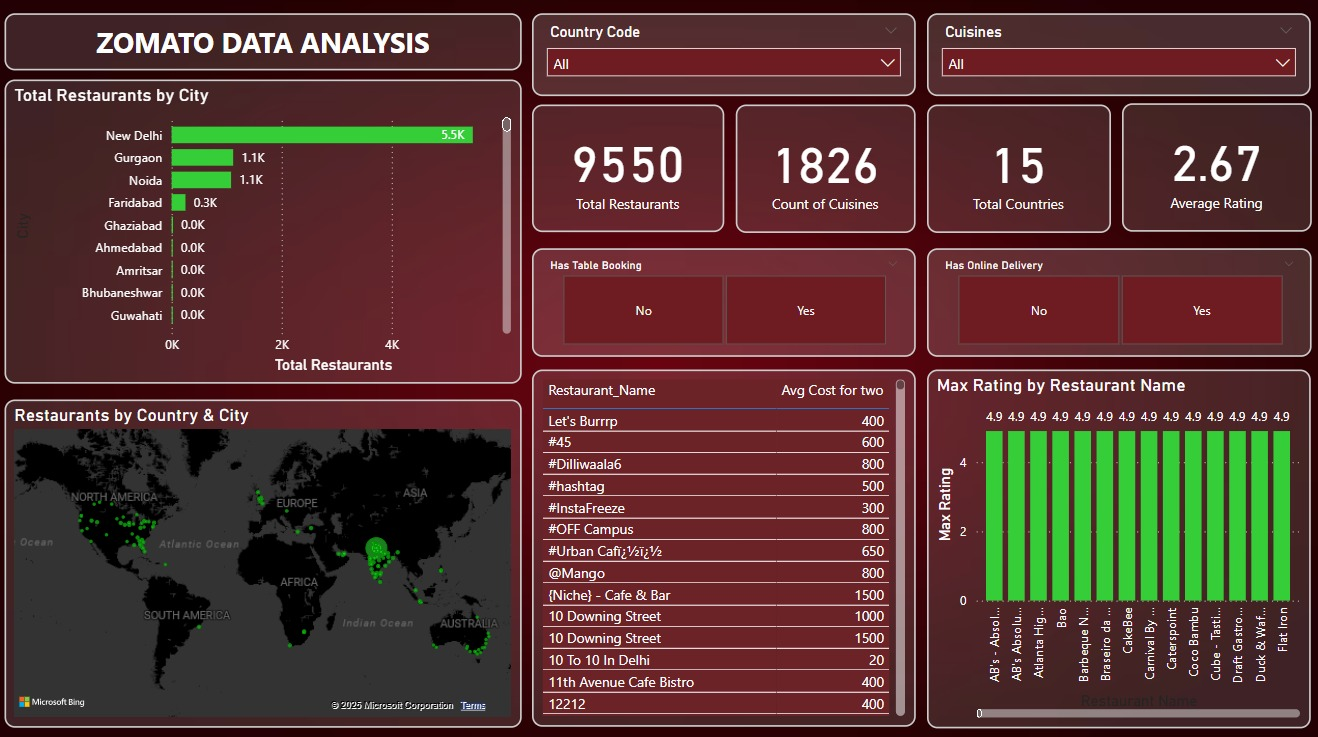

The page's visual inventory and layout, read from the dashboard file:
{"tool":"powerbi","page":{"name":"Page 1","canvas":[1280,720],"ordinal":0},"visuals":[{"type":"textbox","box":[6.9,15.1,499.5,54.9],"z":0},{"type":"map","title":"Restaurants by Country &  City","fields":{"Category":["Zomato.City"],"Size":["CountNonNull(Zomato.Restaurant_ID)"]},"box":[6.9,388.3,499.5,317],"z":1000},{"type":"barChart","fields":{"Category":["Zomato.City"],"Y":["Zomato.Total Restaurants"]},"box":[6.9,79.6,499.5,293.7],"z":2000},{"type":"card","fields":{"Values":["Zomato.Total Restaurants"]},"box":[516.4,103.8,185.8,123.1],"z":3000},{"type":"card","fields":{"Values":["Count(Zomato.Cuisines)"]},"box":[713,103.8,173.7,124.3],"z":4000},{"type":"card","fields":{"Values":["Avg(Zomato.Rating)"]},"box":[1085.8,102.5,183.4,124.3],"z":5000},{"type":"card","fields":{"Values":["Count(Zomato.Country_Code)"]},"box":[897.6,103.8,177.3,124.3],"z":6000},{"type":"slicer","fields":{"Values":["Zomato.Country_Code"]},"box":[516.4,15.7,370.4,79.6],"z":7000},{"type":"slicer","fields":{"Values":["Zomato.Cuisines"]},"box":[897.6,15.7,370.4,79.6],"z":8000},{"type":"slicer","fields":{"Values":["Zomato.Has_Table_Booking"]},"box":[516.4,242.5,370.4,105],"z":9000},{"type":"slicer","fields":{"Values":["Zomato.Has_Online_Delivery"]},"box":[897.6,242.5,371.6,105],"z":10000},{"type":"clusteredColumnChart","fields":{"Category":["Zomato.Restaurant_Name"],"Y":["Max(Zomato.Rating)"]},"box":[897.6,359.5,370.4,346.2],"z":11000},{"type":"tableEx","fields":{"Values":["Zomato.Restaurant_Name","Zomato.Average_Cost_for_two"]},"box":[516.4,359.5,370.4,345],"z":12000},{"type":"image","box":[7.2,2.4,79.6,79.6],"z":12001}]}

Visuals, with their boxes in screenshot pixels (x1, y1, x2, y2), scaled from the page's 1280x720 canvas onto the 1318x737 screenshot:
textbox: x1=7 y1=15 x2=521 y2=72
"Restaurants by Country &  City" map: x1=7 y1=397 x2=521 y2=722
barChart - Zomato.City x Zomato.Total Restaurants: x1=7 y1=81 x2=521 y2=382
card - Zomato.Total Restaurants: x1=532 y1=106 x2=723 y2=232
card - Count(Zomato.Cuisines): x1=734 y1=106 x2=913 y2=233
card - Avg(Zomato.Rating): x1=1118 y1=105 x2=1307 y2=232
card - Count(Zomato.Country_Code): x1=924 y1=106 x2=1107 y2=233
slicer - Zomato.Country_Code: x1=532 y1=16 x2=913 y2=98
slicer - Zomato.Cuisines: x1=924 y1=16 x2=1306 y2=98
slicer - Zomato.Has_Table_Booking: x1=532 y1=248 x2=913 y2=356
slicer - Zomato.Has_Online_Delivery: x1=924 y1=248 x2=1307 y2=356
clusteredColumnChart - Zomato.Restaurant_Name x Max(Zomato.Rating): x1=924 y1=368 x2=1306 y2=722
tableEx - Zomato.Restaurant_Name x Zomato.Average_Cost_for_two: x1=532 y1=368 x2=913 y2=721
image: x1=7 y1=2 x2=89 y2=84
